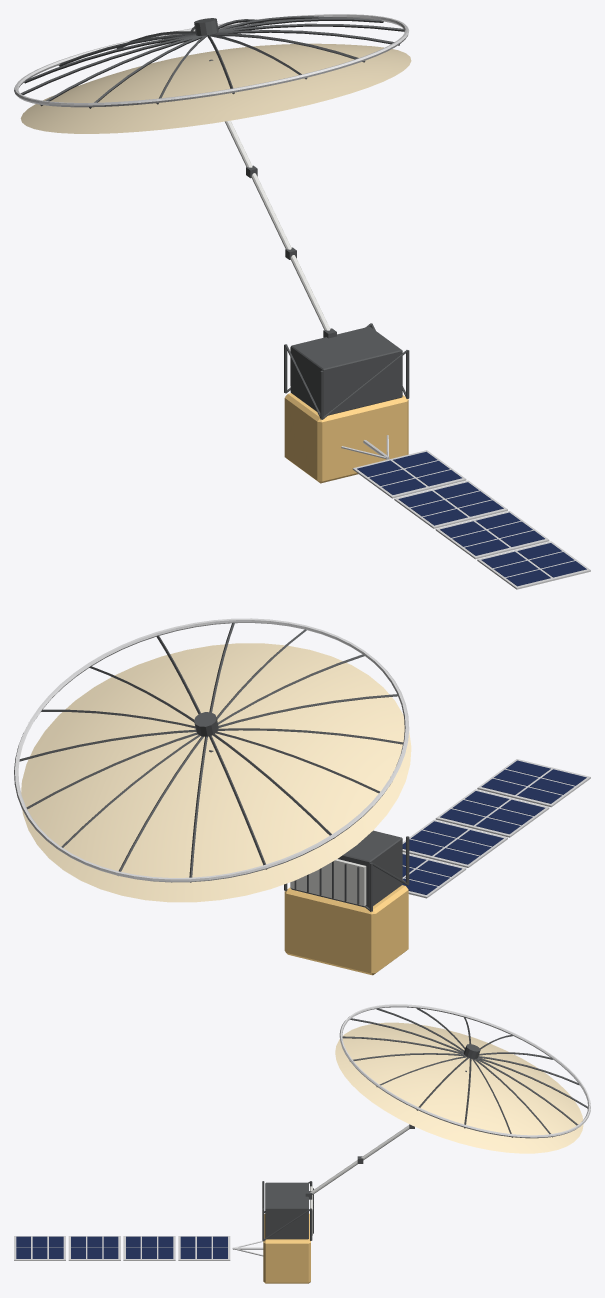
The model's file is nisar.glb.
The picture shows the model from 3 angles, top to bottom: view 1: azimuth 30°, elevation 25°; view 2: azimuth 150°, elevation 25°; view 3: azimuth 270°, elevation 25°; orthographic projection. The views are drawn at different scales.
Visible parts, largest first — view 1: Reflector, SolarWing, ReflectorFrame, RadarInstrument, Bus, Boom; view 2: Reflector, ReflectorFrame, SolarWing, Bus, RadarInstrument, FeedArray; view 3: Reflector, ReflectorFrame, SolarWing, RadarInstrument, Bus, Boom.
Boxes of the visible parts, bbox=[...] form: Reflector: bbox=[20, 43, 411, 133]; SolarWing: bbox=[341, 435, 590, 589]; ReflectorFrame: bbox=[14, 14, 409, 108]; RadarInstrument: bbox=[284, 323, 409, 419]; Bus: bbox=[284, 393, 408, 483]; Boom: bbox=[209, 59, 336, 338]; Reflector: bbox=[21, 643, 411, 902]; ReflectorFrame: bbox=[14, 618, 409, 882]; SolarWing: bbox=[402, 759, 590, 898]; Bus: bbox=[284, 885, 408, 975]; RadarInstrument: bbox=[284, 830, 409, 911]; FeedArray: bbox=[290, 859, 366, 906]; Reflector: bbox=[335, 1022, 583, 1153]; ReflectorFrame: bbox=[339, 1004, 590, 1138]; SolarWing: bbox=[14, 1236, 263, 1260]; RadarInstrument: bbox=[262, 1181, 312, 1240]; Bus: bbox=[263, 1213, 310, 1283]; Boom: bbox=[305, 1070, 466, 1199].
Size of the model in its own units: 4.51 by 4.44 by 9.86.
